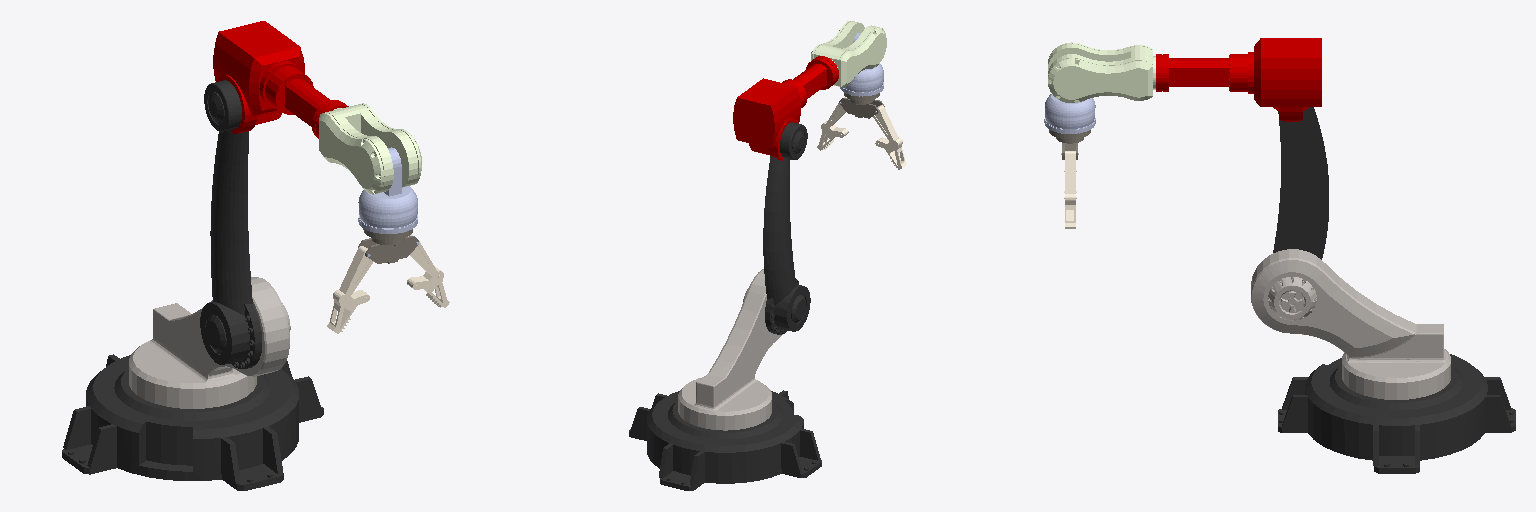
URDF robot description (robot_arm_urdf):
<?xml version="1.0" encoding="utf-8"?>
<!-- This URDF was automatically created by SolidWorks to URDF Exporter! Originally created by Stephen Brawner (brawner@gmail.com) 
     Commit Version: 1.6.0-4-g7f85cfe  Build Version: 1.6.7995.38578
     For more information, please see http://wiki.ros.org/sw_urdf_exporter -->
<robot
  name="robot_arm_urdf">
  <link
    name="base_link">
    <inertial>
      <origin
        xyz="0.00142619144807144 0.00142619144807235 0.0387209988697239"
        rpy="0 0 0" />
      <mass
        value="5.77045683035615" />
      <inertia
        ixx="0.0358649623254085"
        ixy="0.00080037945527639"
        ixz="-6.17308285786931E-05"
        iyy="0.0358649623254085"
        iyz="-6.17308285786879E-05"
        izz="0.0665669780658533" />
    </inertial>
    <visual>
      <origin
        xyz="0 0 0"
        rpy="0 0 0" />
      <geometry>
        <mesh
          filename="package://robot_arm_urdf/meshes/base_link.STL" />
      </geometry>
      <material
        name="">
        <color
          rgba="0.250980392156863 0.250980392156863 0.250980392156863 1" />
      </material>
    </visual>
    <collision>
      <origin
        xyz="0 0 0"
        rpy="0 0 0" />
      <geometry>
        <mesh
          filename="package://robot_arm_urdf/meshes/base_link.STL" />
      </geometry>
    </collision>
  </link>
  <link
    name="link_1">
    <inertial>
      <origin
        xyz="0.00235237666695179 -0.0643399194503954 0.164348327047606"
        rpy="0 0 0" />
      <mass
        value="2.31561877597464" />
      <inertia
        ixx="0.0258417375148999"
        ixy="0.000433797147037483"
        ixz="-0.000325194930426673"
        iyy="0.0111305576351718"
        iyz="0.00973866434150884"
        izz="0.0190337639670921" />
    </inertial>
    <visual>
      <origin
        xyz="0 0 0"
        rpy="0 0 0" />
      <geometry>
        <mesh
          filename="package://robot_arm_urdf/meshes/link_1.STL" />
      </geometry>
      <material
        name="">
        <color
          rgba="0.776470588235294 0.756862745098039 0.737254901960784 1" />
      </material>
    </visual>
    <collision>
      <origin
        xyz="0 0 0"
        rpy="0 0 0" />
      <geometry>
        <mesh
          filename="package://robot_arm_urdf/meshes/link_1.STL" />
      </geometry>
    </collision>
  </link>
  <joint
    name="joint_1"
    type="revolute">
    <origin
      xyz="0 0 0"
      rpy="0 0 0" />
    <parent
      link="base_link" />
    <child
      link="link_1" />
    <axis
      xyz="0 0 1" />
    <limit
      lower="-3.1415"
      upper="3.1415"
      effort="300"
      velocity="3" />
  </joint>
  <link
    name="link_2">
    <inertial>
      <origin
        xyz="-0.0158074413346747 0.00902186818494333 0.142692299596478"
        rpy="0 0 0" />
      <mass
        value="0.995339611371039" />
      <inertia
        ixx="0.0185072986156989"
        ixy="-2.69236672235376E-05"
        ixz="-8.14387504774798E-05"
        iyy="0.0181328588672788"
        iyz="-0.000207024018478611"
        izz="0.00066596546803811" />
    </inertial>
    <visual>
      <origin
        xyz="0 0 0"
        rpy="0 0 0" />
      <geometry>
        <mesh
          filename="package://robot_arm_urdf/meshes/link_2.STL" />
      </geometry>
      <material
        name="">
        <color
          rgba="0.250980392156863 0.250980392156863 0.250980392156863 1" />
      </material>
    </visual>
    <collision>
      <origin
        xyz="0 0 0"
        rpy="0 0 0" />
      <geometry>
        <mesh
          filename="package://robot_arm_urdf/meshes/link_2.STL" />
      </geometry>
    </collision>
  </link>
  <joint
    name="joint_2"
    type="revolute">
    <origin
      xyz="-0.0200000000000009 -0.172892312614965 0.242433518371245"
      rpy="0 0 0" />
    <parent
      link="link_1" />
    <child
      link="link_2" />
    <axis
      xyz="-1 0 0" />
    <limit
      lower="-1.57"
      upper="1.57"
      effort="200"
      velocity="3" />
  </joint>
  <link
    name="link_3">
    <inertial>
      <origin
        xyz="0.0356599701610483 -0.034594707410593 0.0385370324996485"
        rpy="0 0 0" />
      <mass
        value="1.29268396629573" />
      <inertia
        ixx="0.00665121214812056"
        ixy="8.22754627038918E-05"
        ixz="-0.000123622152375581"
        iyy="0.00176598194498611"
        iyz="0.000290644819641566"
        izz="0.00626172582845467" />
    </inertial>
    <visual>
      <origin
        xyz="0 0 0"
        rpy="0 0 0" />
      <geometry>
        <mesh
          filename="package://robot_arm_urdf/meshes/link_3.STL" />
      </geometry>
      <material
        name="">
        <color
          rgba="0.843137254901961 0 0 1" />
      </material>
    </visual>
    <collision>
      <origin
        xyz="0 0 0"
        rpy="0 0 0" />
      <geometry>
        <mesh
          filename="package://robot_arm_urdf/meshes/link_3.STL" />
      </geometry>
    </collision>
  </link>
  <joint
    name="joint_3"
    type="revolute">
    <origin
      xyz="-0.00950000000000014 0 0.35"
      rpy="0 0 0" />
    <parent
      link="link_2" />
    <child
      link="link_3" />
    <axis
      xyz="-1 0 0" />
    <limit
      lower="-0.5236"
      upper="1.0471"
      effort="200"
      velocity="3" />
  </joint>
  <link
    name="link_4">
    <inertial>
      <origin
        xyz="1.400514546019E-07 -0.0752354468372655 6.78485117644456E-07"
        rpy="0 0 0" />
      <mass
        value="0.629542864470802" />
      <inertia
        ixx="0.00198131032254846"
        ixy="1.14439862027045E-08"
        ixz="-1.97420184797469E-08"
        iyy="0.000595932541109469"
        iyz="3.40296078483897E-08"
        izz="0.00214969159606624" />
    </inertial>
    <visual>
      <origin
        xyz="0 0 0"
        rpy="0 0 0" />
      <geometry>
        <mesh
          filename="package://robot_arm_urdf/meshes/link_4.STL" />
      </geometry>
      <material
        name="">
        <color
          rgba="0.956862745098039 1 0.874509803921569 1" />
      </material>
    </visual>
    <collision>
      <origin
        xyz="0 0 0"
        rpy="0 0 0" />
      <geometry>
        <mesh
          filename="package://robot_arm_urdf/meshes/link_4.STL" />
      </geometry>
    </collision>
  </link>
  <joint
    name="joint_4"
    type="revolute">
    <origin
      xyz="0.0375 -0.226 0.045"
      rpy="0 0 0" />
    <parent
      link="link_3" />
    <child
      link="link_4" />
    <axis
      xyz="0 1 0" />
    <limit
      lower="-3.1415"
      upper="3.1415"
      effort="100"
      velocity="3" />
  </joint>
  <link
    name="link_5">
    <inertial>
      <origin
        xyz="4.68375338513738E-17 1.11022302462516E-16 -0.0595366097936"
        rpy="0 0 0" />
      <mass
        value="0.315890461347659" />
      <inertia
        ixx="0.000327918556202627"
        ixy="-2.7970063537737E-20"
        ixz="9.49331402772297E-20"
        iyy="0.000325029795100665"
        iyz="-5.3129884417086E-22"
        izz="0.000219611762822908" />
    </inertial>
    <visual>
      <origin
        xyz="0 0 0"
        rpy="0 0 0" />
      <geometry>
        <mesh
          filename="package://robot_arm_urdf/meshes/link_5.STL" />
      </geometry>
      <material
        name="">
        <color
          rgba="0.792156862745098 0.819607843137255 0.933333333333333 1" />
      </material>
    </visual>
    <collision>
      <origin
        xyz="0 0 0"
        rpy="0 0 0" />
      <geometry>
        <mesh
          filename="package://robot_arm_urdf/meshes/link_5.STL" />
      </geometry>
    </collision>
  </link>
  <joint
    name="joint_5"
    type="revolute">
    <origin
      xyz="0 -0.136166643344977 0"
      rpy="0 0 0" />
    <parent
      link="link_4" />
    <child
      link="link_5" />
    <axis
      xyz="-1 0 0" />
    <limit
      lower="0"
      upper="3.1415"
      effort="100"
      velocity="3" />
  </joint>
  <link
    name="link_6">
    <inertial>
      <origin
        xyz="8.67361737988404E-18 -1.11022302462516E-16 -0.0163202513928217"
        rpy="0 0 0" />
      <mass
        value="0.0763288813393329" />
      <inertia
        ixx="3.21775956437031E-05"
        ixy="-1.18886816814994E-21"
        ixz="-8.72605956714819E-21"
        iyy="3.78561343156334E-05"
        iyz="2.17423943998371E-21"
        izz="3.97566636072768E-05" />
    </inertial>
    <visual>
      <origin
        xyz="0 0 0"
        rpy="0 0 0" />
      <geometry>
        <mesh
          filename="package://robot_arm_urdf/meshes/link_6.STL" />
      </geometry>
      <material
        name="">
        <color
          rgba="0.568627450980392 0.549019607843137 0.509803921568627 1" />
      </material>
    </visual>
    <collision>
      <origin
        xyz="0 0 0"
        rpy="0 0 0" />
      <geometry>
        <mesh
          filename="package://robot_arm_urdf/meshes/link_6.STL" />
      </geometry>
    </collision>
  </link>
  <joint
    name="joint_6"
    type="revolute">
    <origin
      xyz="0 0 -0.0939999999999998"
      rpy="0 0 0" />
    <parent
      link="link_5" />
    <child
      link="link_6" />
    <axis
      xyz="0 0 -1" />
    <limit
      lower="-1.57"
      upper="1.57"
      effort="100"
      velocity="3" />
  </joint>
  <link
    name="pin_R">
    <inertial>
      <origin
        xyz="6.93889390390723E-18 -0.00735686151301151 0"
        rpy="0 0 0" />
      <mass
        value="0.000234048652692439" />
      <inertia
        ixx="2.03755518280964E-08"
        ixy="3.42316334339684E-24"
        ixz="2.64687025436074E-26"
        iyy="3.0728703142925E-10"
        iyz="2.50873465428739E-25"
        izz="2.03755518280964E-08" />
    </inertial>
    <visual>
      <origin
        xyz="0 0 0"
        rpy="0 0 0" />
      <geometry>
        <mesh
          filename="package://robot_arm_urdf/meshes/pin_R.STL" />
      </geometry>
      <material
        name="">
        <color
          rgba="0.792156862745098 0.819607843137255 0.933333333333333 1" />
      </material>
    </visual>
    <collision>
      <origin
        xyz="0 0 0"
        rpy="0 0 0" />
      <geometry>
        <mesh
          filename="package://robot_arm_urdf/meshes/pin_R.STL" />
      </geometry>
    </collision>
  </link>
  <joint
    name="joint_pR"
    type="fixed">
    <origin
      xyz="0.0393920575113502 0.00735686151301129 -0.0343095110959065"
      rpy="0 0 0" />
    <parent
      link="link_6" />
    <child
      link="pin_R" />
    <axis
      xyz="0 0 0" />
  </joint>
  <link
    name="gripper_R">
    <inertial>
      <origin
        xyz="0.0187230080337432 -0.00735686151301151 -0.0506953708845124"
        rpy="0 0 0" />
      <mass
        value="0.0401299740384797" />
      <inertia
        ixx="3.81716808668171E-05"
        ixy="-2.9779695901681E-21"
        ixz="1.55460909014014E-05"
        iyy="4.79794138126841E-05"
        iyz="7.58084342753845E-21"
        izz="1.1951719606009E-05" />
    </inertial>
    <visual>
      <origin
        xyz="0 0 0"
        rpy="0 0 0" />
      <geometry>
        <mesh
          filename="package://robot_arm_urdf/meshes/gripper_R.STL" />
      </geometry>
      <material
        name="">
        <color
          rgba="1 0.96078431372549 0.890196078431372 1" />
      </material>
    </visual>
    <collision>
      <origin
        xyz="0 0 0"
        rpy="0 0 0" />
      <geometry>
        <mesh
          filename="package://robot_arm_urdf/meshes/gripper_R.STL" />
      </geometry>
    </collision>
  </link>
  <joint
    name="joint_gR"
    type="revolute">
    <origin
      xyz="0.0393920575113502 0.00735686151301129 -0.0343095110959065"
      rpy="0 0 0" />
    <parent
      link="link_6" />
    <child
      link="gripper_R" />
    <axis
      xyz="0 1 0" />
    <limit
      lower="0"
      upper="1.0471"
      effort="100"
      velocity="3" />
  </joint>
  <link
    name="pin_L">
    <inertial>
      <origin
        xyz="0 -0.00735686151301163 0"
        rpy="0 0 0" />
      <mass
        value="0.000234048652692439" />
      <inertia
        ixx="2.03755518280964E-08"
        ixy="7.28832234693833E-25"
        ixz="2.71687903016275E-26"
        iyy="3.07287031429251E-10"
        iyz="2.47485864245774E-25"
        izz="2.03755518280964E-08" />
    </inertial>
    <visual>
      <origin
        xyz="0 0 0"
        rpy="0 0 0" />
      <geometry>
        <mesh
          filename="package://robot_arm_urdf/meshes/pin_L.STL" />
      </geometry>
      <material
        name="">
        <color
          rgba="0.792156862745098 0.819607843137255 0.933333333333333 1" />
      </material>
    </visual>
    <collision>
      <origin
        xyz="0 0 0"
        rpy="0 0 0" />
      <geometry>
        <mesh
          filename="package://robot_arm_urdf/meshes/pin_L.STL" />
      </geometry>
    </collision>
  </link>
  <joint
    name="joint_pL"
    type="fixed">
    <origin
      xyz="-0.0393920575113496 0.00735686151301129 -0.0343095110959065"
      rpy="0 0 0" />
    <parent
      link="link_6" />
    <child
      link="pin_L" />
    <axis
      xyz="0 0 0" />
  </joint>
  <link
    name="gripper_L">
    <inertial>
      <origin
        xyz="-0.0187230080337433 -0.00735686151301118 -0.0506953708845123"
        rpy="0 0 0" />
      <mass
        value="0.0401299740384796" />
      <inertia
        ixx="3.8171680866817E-05"
        ixy="1.89341281686884E-21"
        ixz="-1.55460909014013E-05"
        iyy="4.79794138126839E-05"
        iyz="1.0282706381016E-20"
        izz="1.19517196060089E-05" />
    </inertial>
    <visual>
      <origin
        xyz="0 0 0"
        rpy="0 0 0" />
      <geometry>
        <mesh
          filename="package://robot_arm_urdf/meshes/gripper_L.STL" />
      </geometry>
      <material
        name="">
        <color
          rgba="1 0.96078431372549 0.890196078431372 1" />
      </material>
    </visual>
    <collision>
      <origin
        xyz="0 0 0"
        rpy="0 0 0" />
      <geometry>
        <mesh
          filename="package://robot_arm_urdf/meshes/gripper_L.STL" />
      </geometry>
    </collision>
  </link>
  <joint
    name="joint_gL"
    type="revolute">
    <origin
      xyz="-0.0393920575113496 0.00735686151301129 -0.0343095110959065"
      rpy="0 0 0" />
    <parent
      link="link_6" />
    <child
      link="gripper_L" />
    <axis
      xyz="0 1 0" />
    <limit
      lower="-1.0471"
      upper="0"
      effort="100"
      velocity="3" />
  </joint>
</robot>

--- What the picture shows (computed from the rendered views, not written in the file) ---
The picture shows the robot from 3 angles, left to right: view 1: azimuth 30°, elevation 25°; view 2: azimuth 150°, elevation 25°; view 3: azimuth 270°, elevation 25°; orthographic projection.
Model robot_arm_urdf with 11 links and 10 joints (8 revolute, 2 fixed), rooted at base_link, posed every joint at zero.
Visible links, largest first — view 1: base_link, link_2, link_1, link_3, link_4, link_5, gripper_L, link_6, gripper_R; view 2: base_link, link_1, link_2, link_3, link_4, gripper_L, link_5, link_6, gripper_R; view 3: base_link, link_1, link_3, link_2, link_4, link_5, gripper_R.
Boxes of the visible links, bbox=[...] form: base_link: bbox=[62, 354, 323, 490]; link_2: bbox=[200, 80, 261, 368]; link_1: bbox=[129, 277, 290, 408]; link_3: bbox=[213, 21, 348, 138]; link_4: bbox=[319, 103, 421, 194]; link_5: bbox=[358, 147, 417, 233]; gripper_L: bbox=[327, 246, 373, 333]; link_6: bbox=[358, 228, 418, 263]; gripper_R: bbox=[407, 234, 449, 307]; base_link: bbox=[629, 390, 821, 490]; link_1: bbox=[678, 269, 782, 430]; link_2: bbox=[763, 122, 810, 334]; link_3: bbox=[733, 56, 838, 160]; link_4: bbox=[811, 21, 886, 87]; gripper_L: bbox=[873, 105, 906, 169]; link_5: bbox=[840, 33, 883, 96]; link_6: bbox=[839, 93, 884, 118]; gripper_R: bbox=[817, 97, 848, 150]; base_link: bbox=[1278, 354, 1515, 473]; link_1: bbox=[1251, 249, 1450, 399]; link_3: bbox=[1156, 38, 1321, 121]; link_2: bbox=[1273, 107, 1328, 259]; link_4: bbox=[1048, 42, 1155, 102]; link_5: bbox=[1044, 94, 1095, 133]; gripper_R: bbox=[1064, 151, 1076, 228].
Bounding box of the posed robot: 0.3899 × 0.772 × 0.6824 m (x, y, z).
11 mesh visuals loaded from 11 distinct referenced files (11 binary STL).
